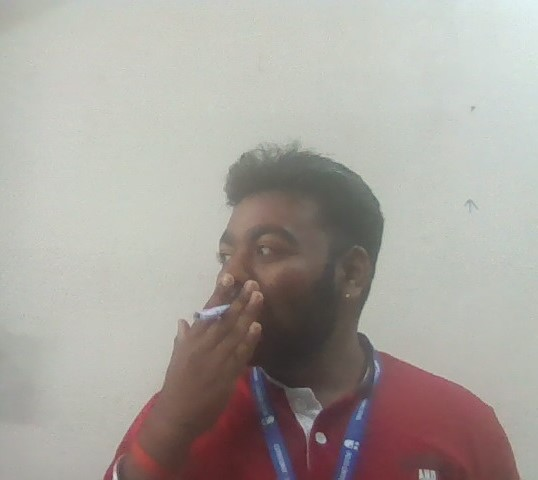smoking: (170, 273, 264, 395)
